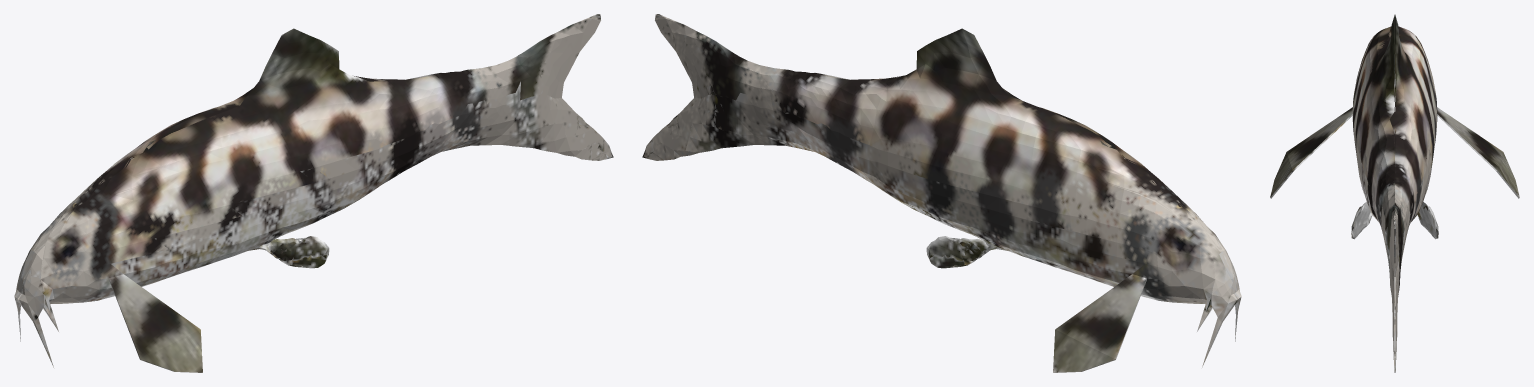
File: yoyo loach.fbx
The picture shows the model from 3 angles, left to right: view 1: azimuth 30°, elevation 25°; view 2: azimuth 150°, elevation 25°; view 3: azimuth 270°, elevation 25°; orthographic projection.
Visible parts, largest first — view 1: Cube.002_Cube.005; view 2: Cube.002_Cube.005; view 3: Cube.002_Cube.005.
Boxes of the visible parts, bbox=[...] form: Cube.002_Cube.005: bbox=[14, 14, 613, 372]; Cube.002_Cube.005: bbox=[642, 14, 1241, 372]; Cube.002_Cube.005: bbox=[1270, 14, 1519, 372].
Size of the model in its own units: 441 by 188 by 162.
